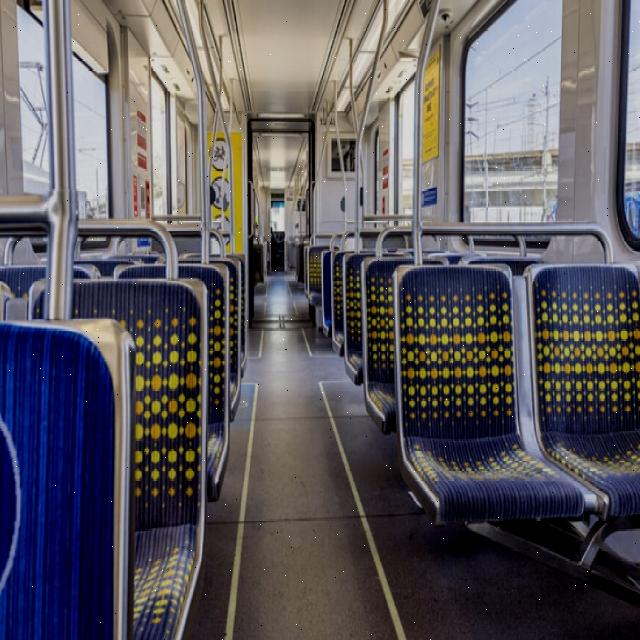empty-seat-frontal: (392, 264, 587, 528), (524, 268, 640, 519)
